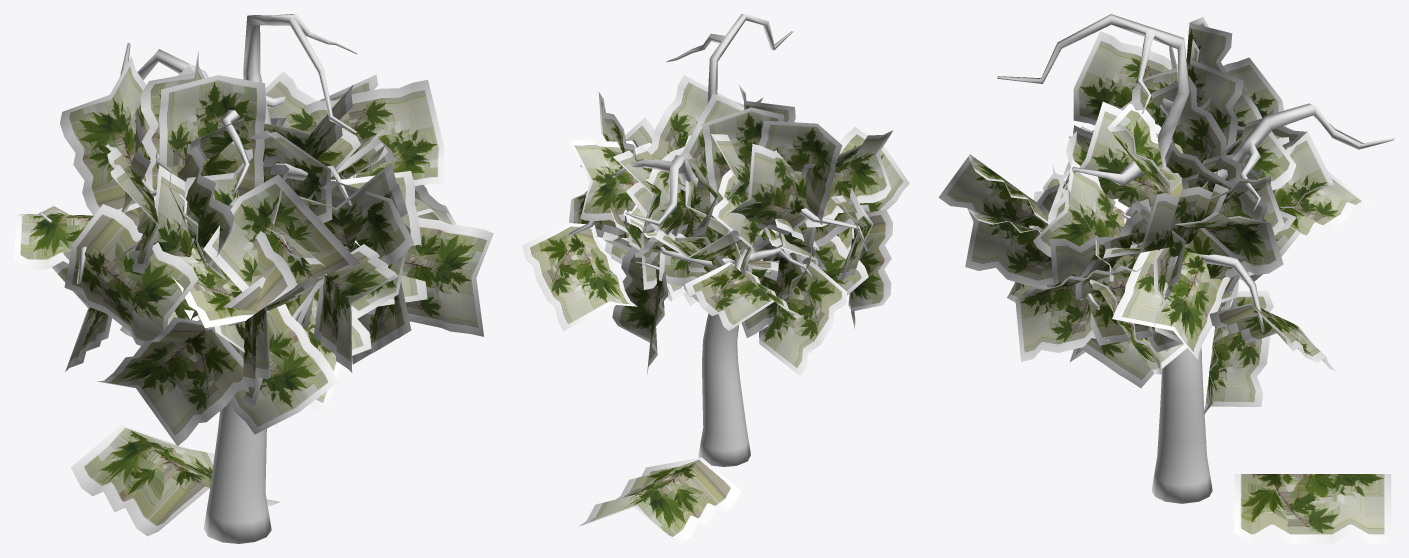
File: Tree_3_HALF_NO_DECIMATE.fbx
The picture shows the model from 3 angles, left to right: view 1: azimuth 30°, elevation 25°; view 2: azimuth 150°, elevation 25°; view 3: azimuth 270°, elevation 25°; orthographic projection. The views are drawn at different scales.
Parts seen in each view (by area): view 1: Tree, Tree|Leaf|Dupli|14, Tree|Leaf|Dupli|60, Leaf, Tree|Leaf|Dupli|36, Tree|Leaf|Dupli|65, Tree|Leaf|Dupli|6, Tree|Leaf|Dupli|19, Tree|Leaf|Dupli|53, Tree|Leaf|Dupli|31, Tree|Leaf|Dupli|61, Tree|Leaf|Dupli|35 (+26 smaller); view 2: Tree, Tree|Leaf|Dupli|21, Leaf, Tree|Leaf|Dupli|43, Tree|Leaf|Dupli|31, Tree|Leaf|Dupli|13, Tree|Leaf|Dupli|70, Tree|Leaf|Dupli|30, Tree|Leaf|Dupli|32, Tree|Leaf|Dupli|44, Tree|Leaf|Dupli|8, Tree|Leaf|Dupli|60 (+23 smaller); view 3: Tree, Leaf, Tree|Leaf|Dupli|20, Tree|Leaf|Dupli|65, Tree|Leaf|Dupli|32, Tree|Leaf|Dupli|44, Tree|Leaf|Dupli|35, Tree|Leaf|Dupli|54, Tree|Leaf|Dupli|59, Tree|Leaf|Dupli|19, Tree|Leaf|Dupli|2, Tree|Leaf|Dupli|17 (+24 smaller).
Boxes of the visible parts, box(x1,y1,x2,y2) form: Tree: box(39, 14, 357, 543); Tree|Leaf|Dupli|14: box(64, 204, 198, 345); Tree|Leaf|Dupli|60: box(97, 317, 247, 445); Leaf: box(71, 425, 280, 536); Tree|Leaf|Dupli|36: box(203, 174, 359, 318); Tree|Leaf|Dupli|65: box(366, 217, 493, 336); Tree|Leaf|Dupli|6: box(157, 75, 265, 196); Tree|Leaf|Dupli|19: box(304, 80, 444, 186); Tree|Leaf|Dupli|53: box(198, 277, 338, 434); Tree|Leaf|Dupli|31: box(60, 56, 150, 215); Tree|Leaf|Dupli|61: box(172, 197, 297, 328); Tree|Leaf|Dupli|35: box(313, 244, 398, 372); Tree: box(568, 14, 868, 466); Tree|Leaf|Dupli|21: box(522, 223, 636, 331); Leaf: box(579, 457, 740, 543); Tree|Leaf|Dupli|43: box(759, 249, 846, 376); Tree|Leaf|Dupli|31: box(746, 120, 842, 224); Tree|Leaf|Dupli|13: box(728, 144, 809, 235); Tree|Leaf|Dupli|70: box(685, 262, 802, 330); Tree|Leaf|Dupli|30: box(568, 138, 638, 221); Tree|Leaf|Dupli|32: box(800, 130, 892, 227); Tree|Leaf|Dupli|44: box(612, 246, 668, 374); Tree|Leaf|Dupli|8: box(702, 107, 784, 206); Tree|Leaf|Dupli|60: box(848, 209, 892, 328); Tree: box(997, 14, 1394, 503); Leaf: box(1234, 474, 1391, 543); Tree|Leaf|Dupli|20: box(1112, 249, 1230, 359); Tree|Leaf|Dupli|65: box(1015, 261, 1132, 361); Tree|Leaf|Dupli|32: box(1073, 31, 1178, 125); Tree|Leaf|Dupli|44: box(1203, 290, 1273, 414); Tree|Leaf|Dupli|35: box(965, 209, 1053, 286); Tree|Leaf|Dupli|54: box(938, 154, 1048, 229); Tree|Leaf|Dupli|59: box(1033, 159, 1123, 257); Tree|Leaf|Dupli|19: box(1103, 183, 1228, 258); Tree|Leaf|Dupli|2: box(1151, 76, 1241, 183); Tree|Leaf|Dupli|17: box(1065, 101, 1183, 207).
Size of the model in its own units: 514 by 731 by 601.
